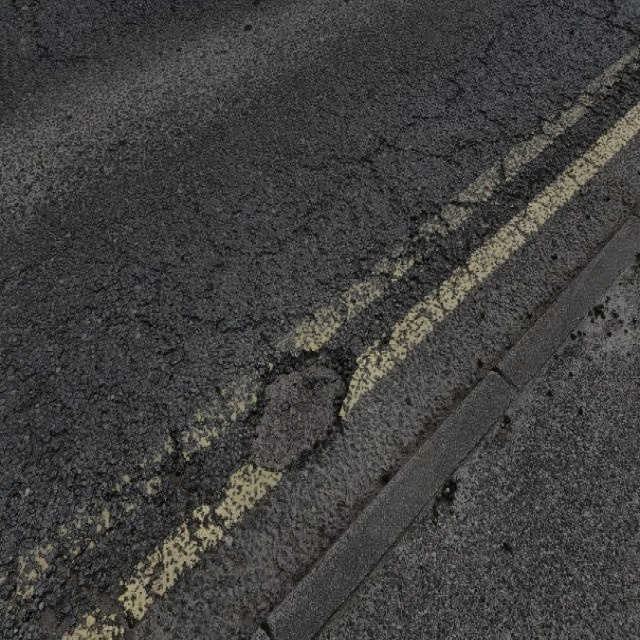Pothole: (234, 342, 358, 472)
